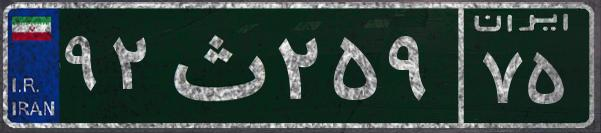2: (273, 28, 330, 110), (110, 28, 158, 105)
5: (330, 28, 385, 110), (525, 38, 570, 115)
7: (475, 38, 525, 113)
9: (385, 28, 445, 110), (57, 26, 110, 107)
ث: (158, 15, 273, 115)
